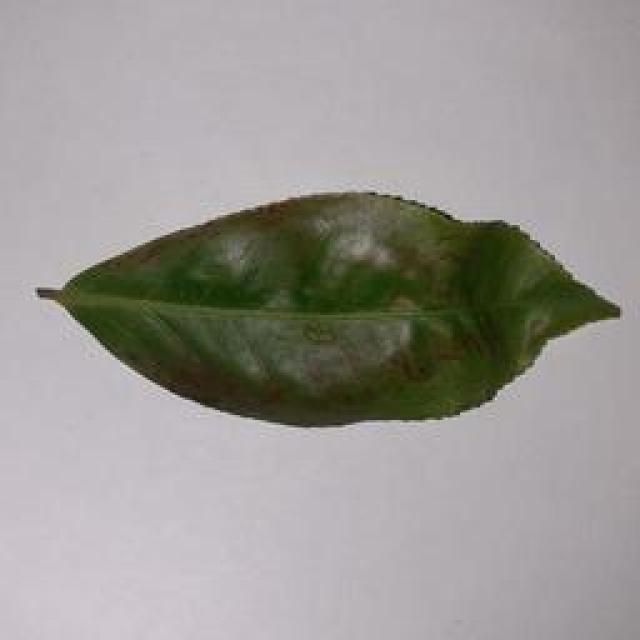Red Leaf Spot: (24, 190, 618, 447)
